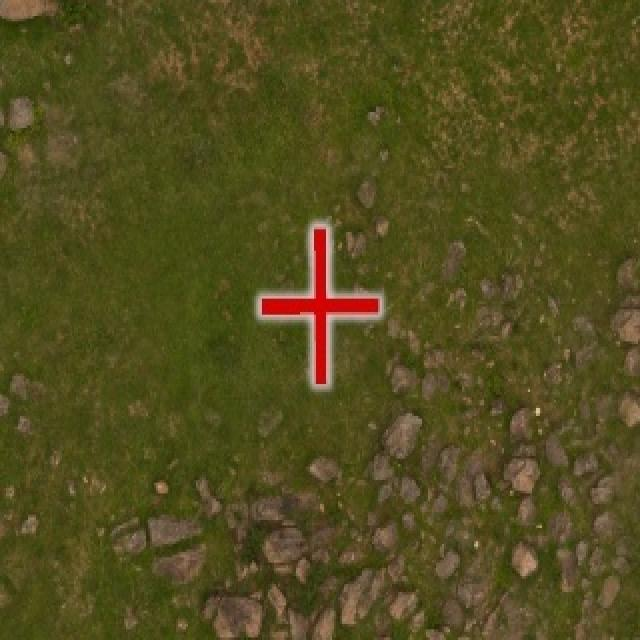x_marker: (259, 225, 379, 383)
